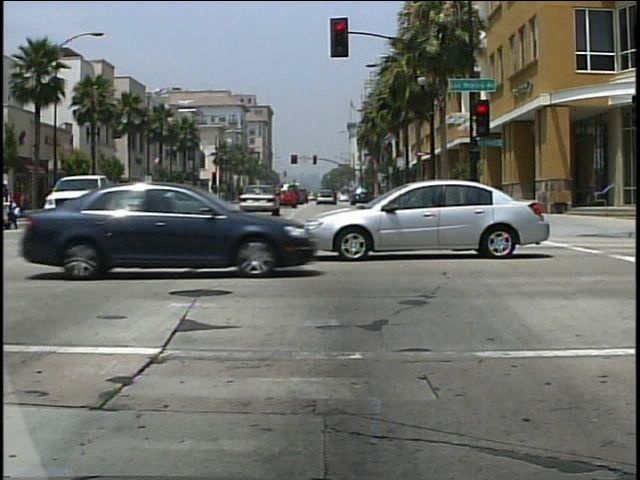person: (1, 179, 25, 231)
